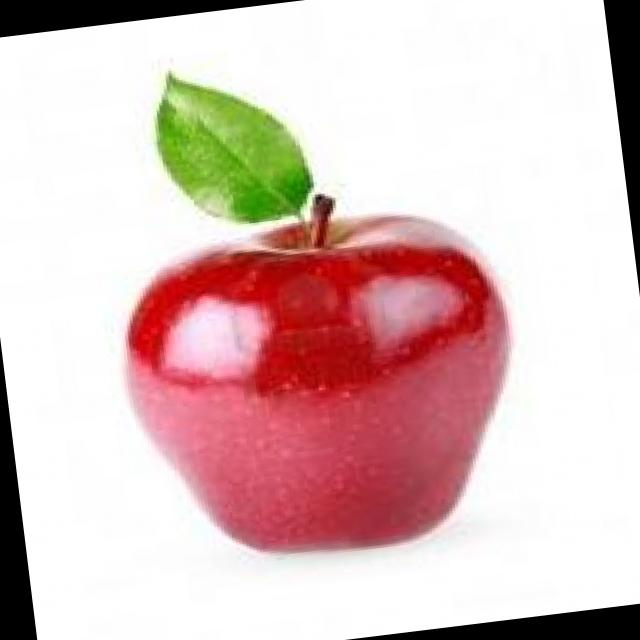apple: (85, 185, 538, 591)
